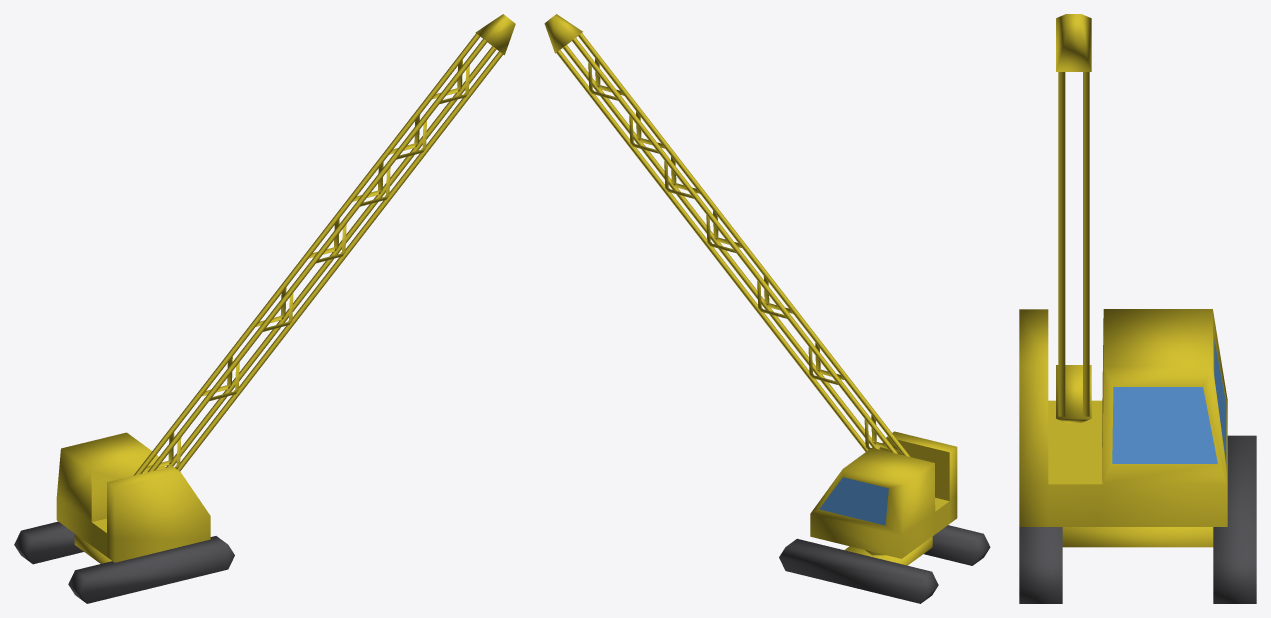
The model's file is WreckingCrane.fbx.
3 renders of one model, left to right at view 1: azimuth 30°, elevation 25°; view 2: azimuth 150°, elevation 25°; view 3: azimuth 270°, elevation 25°, orthographic. The views are drawn at different scales.
Parts seen in each view (by area): view 1: Cube; view 2: Cube; view 3: Cube.
Part boxes in pixels (x1,y1,x2,y2): Cube: (14, 14, 515, 603); Cube: (544, 14, 990, 603); Cube: (1019, 14, 1256, 603).
Bounding box in the file's own units: 32.59 × 32.74 × 8.32.
